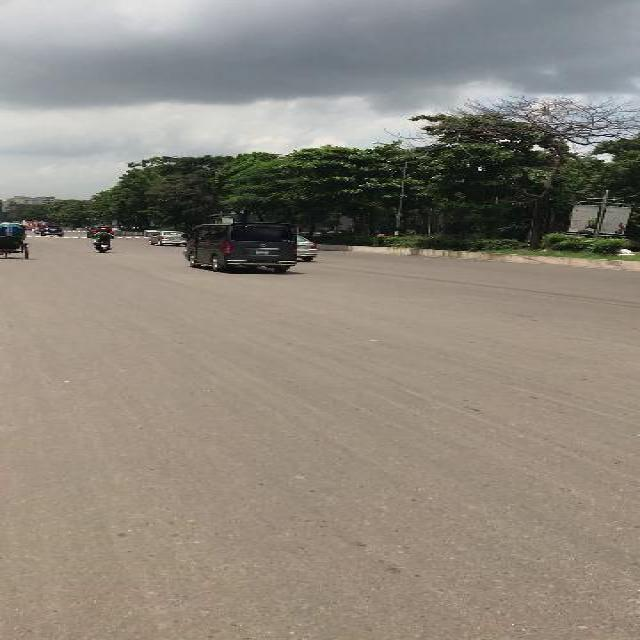bike: (95, 228, 113, 254), (33, 227, 40, 236)
vehicle: (181, 224, 297, 275), (4, 223, 30, 261), (297, 234, 317, 264), (151, 231, 183, 246), (41, 225, 64, 238)
